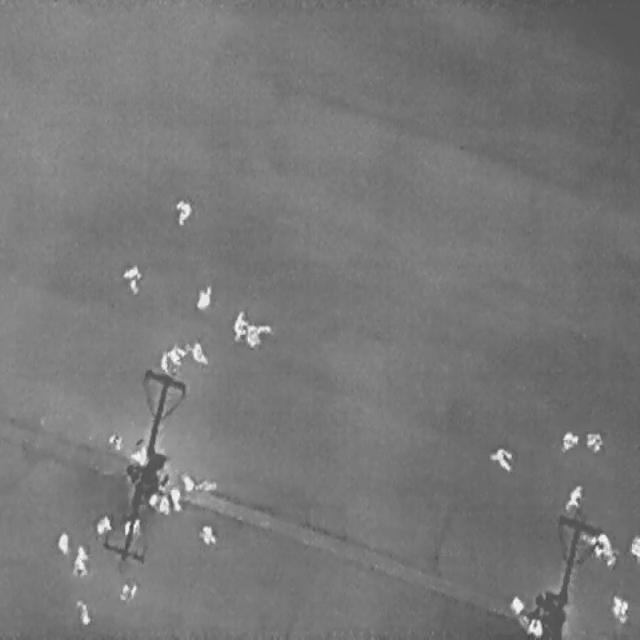Person: (562, 481, 584, 514), (244, 322, 271, 348), (487, 445, 514, 471), (595, 528, 615, 558), (119, 265, 140, 293), (186, 340, 209, 365), (73, 544, 89, 578), (73, 594, 90, 626), (90, 512, 112, 536), (191, 285, 213, 307), (174, 198, 191, 226), (584, 430, 604, 452), (130, 438, 147, 463), (196, 525, 217, 545), (55, 530, 70, 558), (122, 518, 142, 538), (168, 344, 185, 366), (232, 308, 244, 338), (157, 348, 171, 372), (562, 429, 578, 450), (508, 591, 522, 614), (168, 486, 181, 510), (106, 430, 122, 449), (526, 614, 540, 635), (119, 584, 137, 600), (628, 532, 639, 558), (180, 471, 193, 489), (159, 494, 170, 515), (618, 601, 629, 621), (611, 592, 620, 616), (590, 542, 602, 558), (147, 490, 156, 510), (603, 556, 617, 568)
